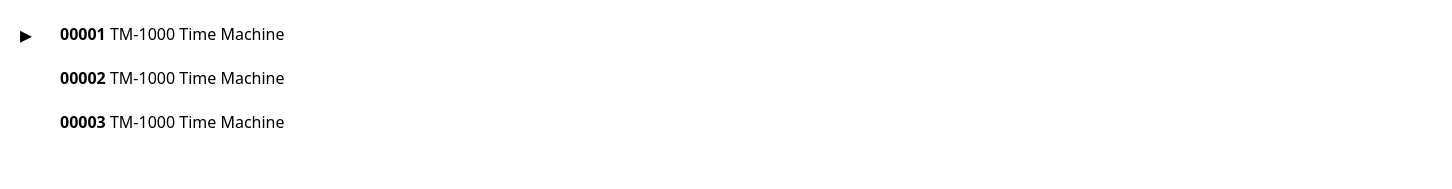
Scenario: ConfigTree › shows a row's children when it is expanded
Expected: the text "TM-1210" is not shown
Step 1. Click the button named "Expand" → (26, 34), box [4, 12, 48, 56]
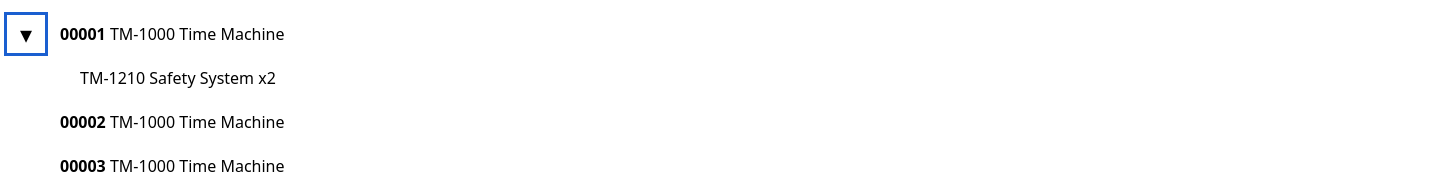
Now the button "TM-1210 Safety System x2" is shown, box [68, 56, 1440, 100]
Now the button named "Collapse" is shown, box [4, 12, 48, 56]
